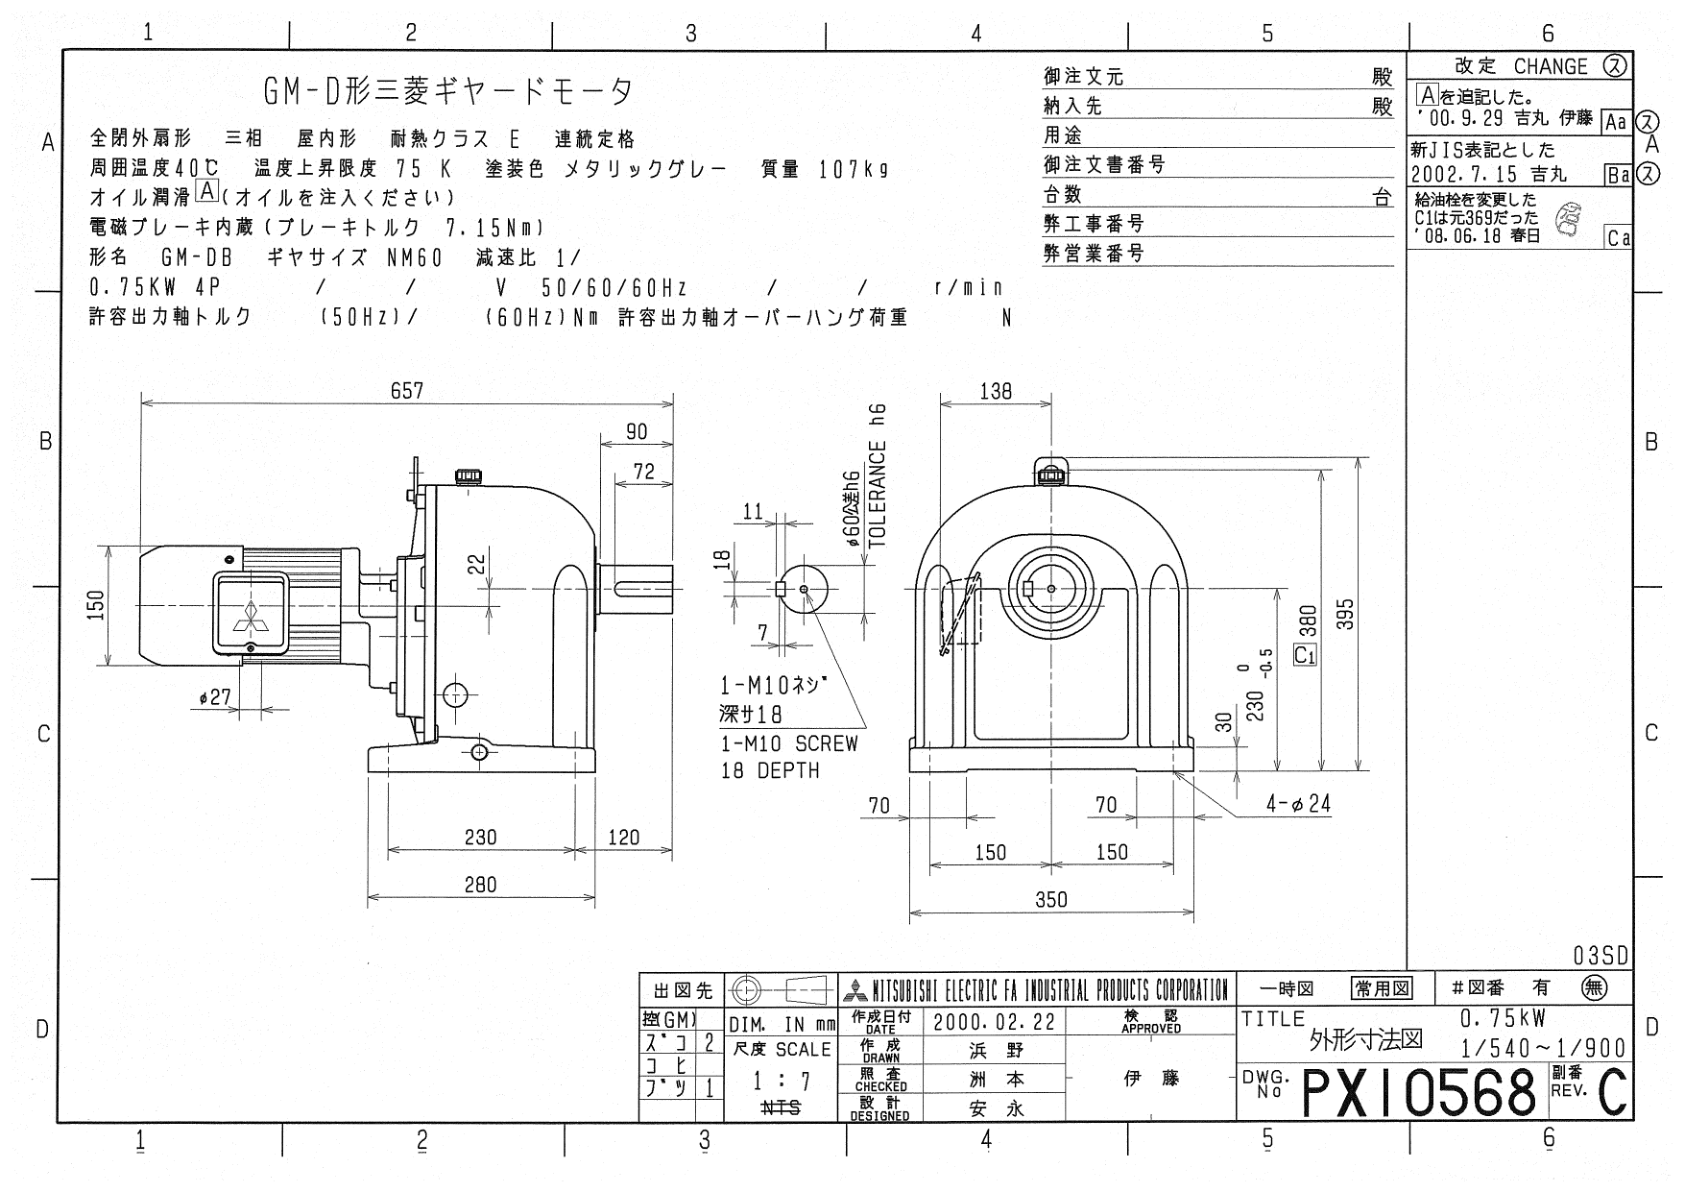GM_D_屋内＿三相_脚: (70, 356, 1393, 946)
